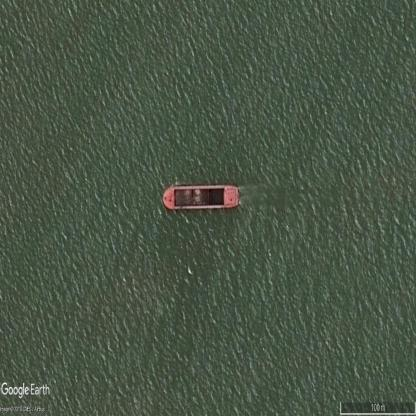ship: (162, 184, 240, 211)
